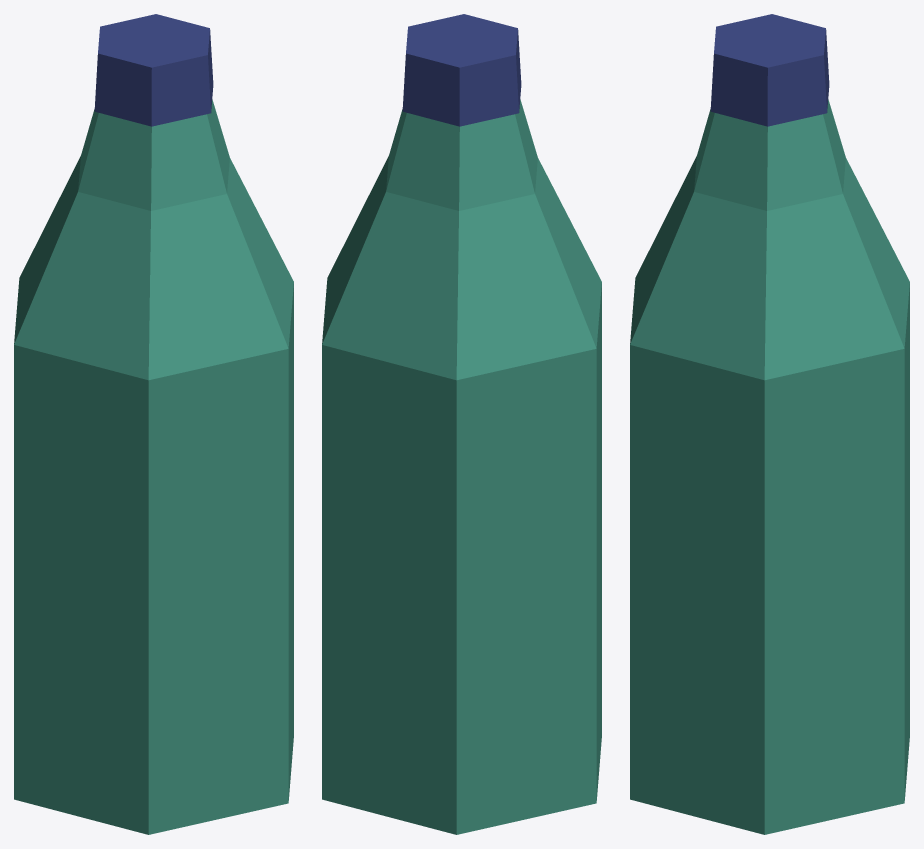
File: Bottle_5.fbx
3 views of the same model, side by side, from view 1: azimuth 30°, elevation 25°; view 2: azimuth 150°, elevation 25°; view 3: azimuth 270°, elevation 25° (orthographic).
Visible parts, largest first — view 1: Bottle_5; view 2: Bottle_5; view 3: Bottle_5.
Part boxes in pixels (x1,y1,x2,y2): Bottle_5: (14, 14, 293, 834); Bottle_5: (322, 14, 601, 834); Bottle_5: (630, 14, 909, 834).
Size of the model in its own units: 10.33 by 9.12 by 26.13.
